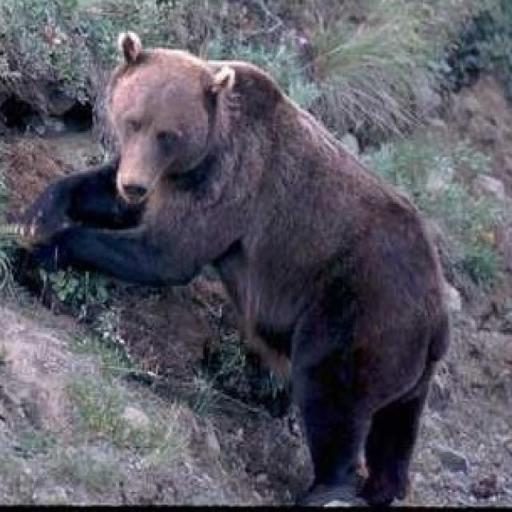Bear: (15, 29, 457, 507)
